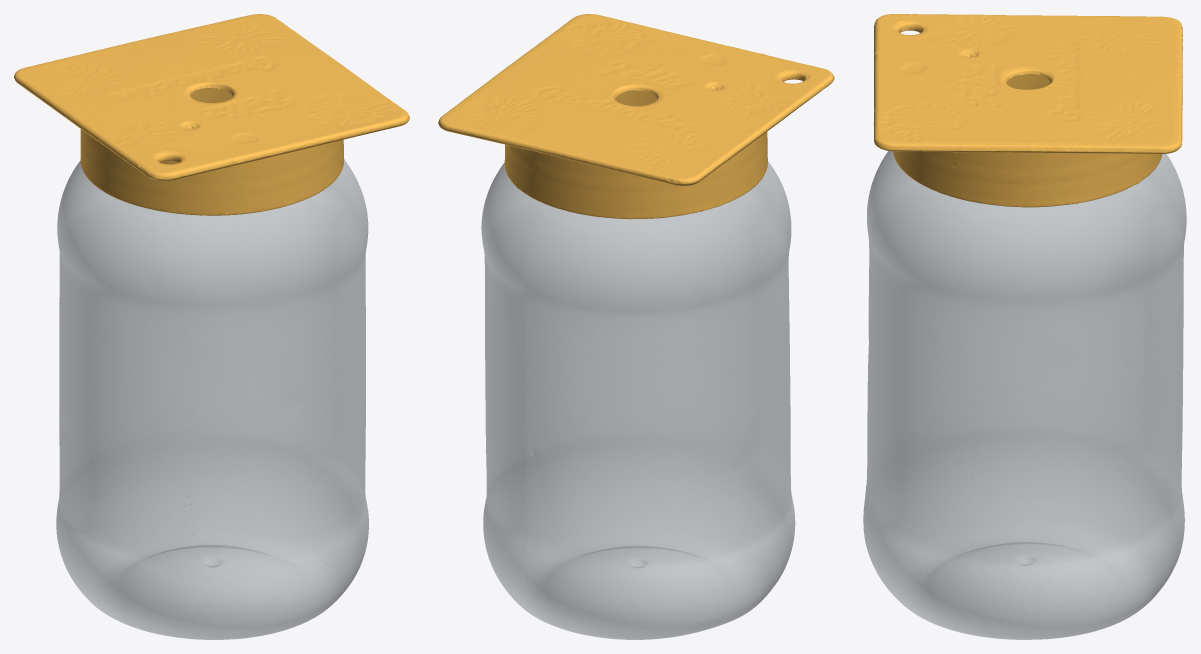
The model's file is Graduacion.glb.
The picture shows the model from 3 angles, left to right: view 1: azimuth 30°, elevation 25°; view 2: azimuth 150°, elevation 25°; view 3: azimuth 270°, elevation 25°; orthographic projection. The views are drawn at different scales.
Parts seen in each view (by area): view 1: graduacion, tapa.001; view 2: graduacion, tapa.001; view 3: graduacion, tapa.001.
Part boxes in pixels (left/top/right/bottom): graduacion: left=56, top=160, right=368, bottom=639; tapa.001: left=14, top=14, right=409, bottom=215; graduacion: left=481, top=161, right=795, bottom=639; tapa.001: left=438, top=14, right=834, bottom=219; graduacion: left=863, top=150, right=1186, bottom=639; tapa.001: left=873, top=14, right=1182, bottom=207.
Size of the model in its own units: 78.23 by 138 by 78.49.
